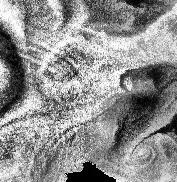CE: (123, 141, 157, 169)
